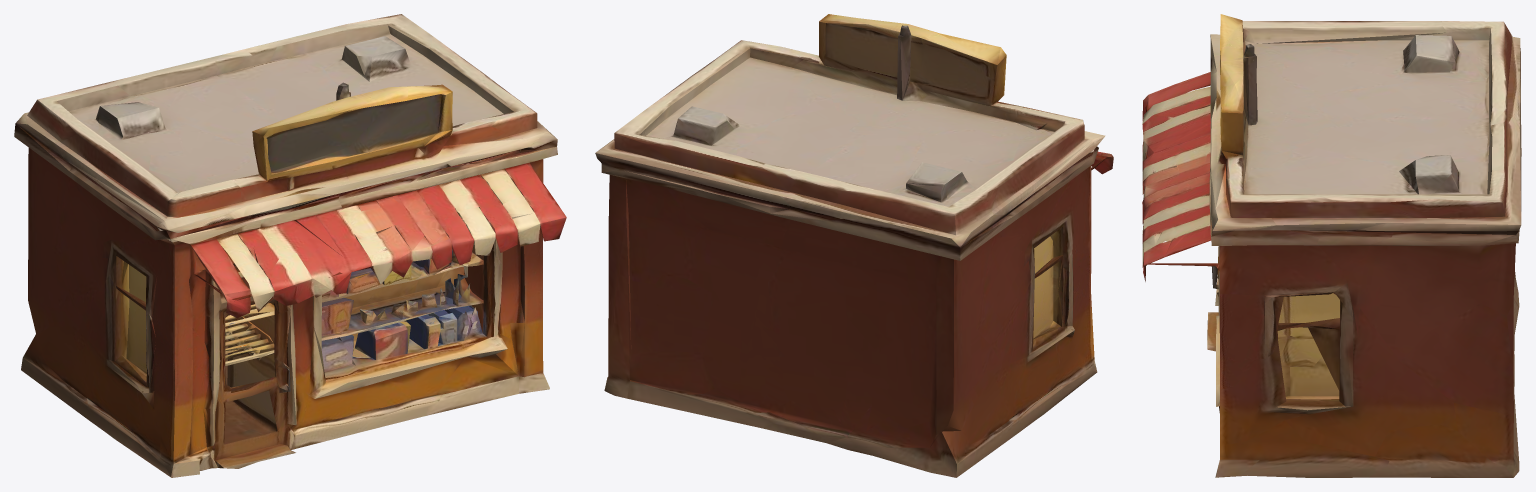
File: loja.glb
The picture shows the model from 3 angles, left to right: view 1: azimuth 30°, elevation 25°; view 2: azimuth 150°, elevation 25°; view 3: azimuth 270°, elevation 25°; orthographic projection. The views are drawn at different scales.
Visible parts, largest first — view 1: loja; view 2: loja; view 3: loja.
Part boxes in pixels (x1,y1,x2,y2): loja: (14,14,566,477); loja: (595,14,1113,477); loja: (1142,14,1521,477).
Bounding box in the file's own units: 9 × 7.44 × 7.53.
1 material, 1 textured.
